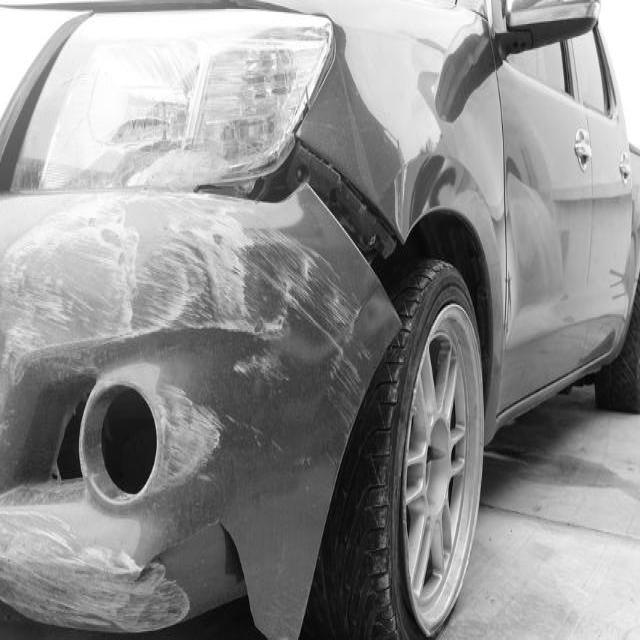Dent: (131, 556, 151, 580), (291, 452, 313, 466), (562, 312, 574, 322)
